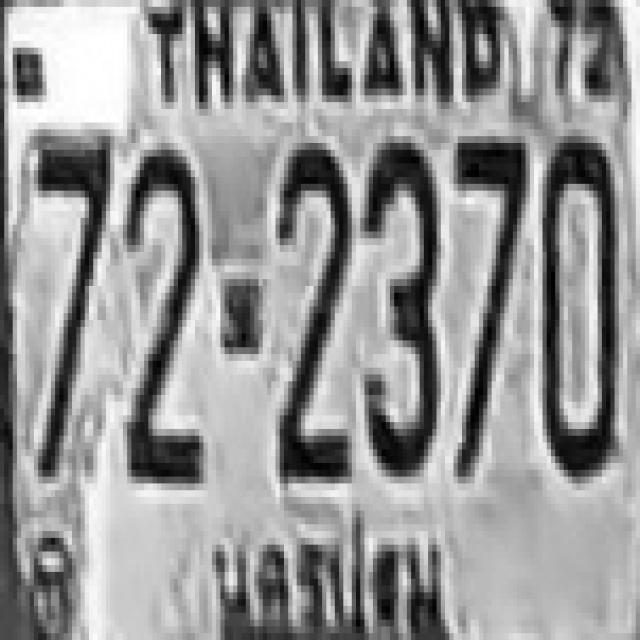0: (538, 133, 615, 473)
2: (119, 146, 199, 474), (275, 140, 352, 460), (121, 170, 201, 477), (123, 143, 199, 449), (273, 140, 350, 439)
3: (358, 136, 439, 470)
7: (32, 129, 112, 470), (454, 129, 526, 470)
NakhonPathom: (192, 499, 462, 640)
